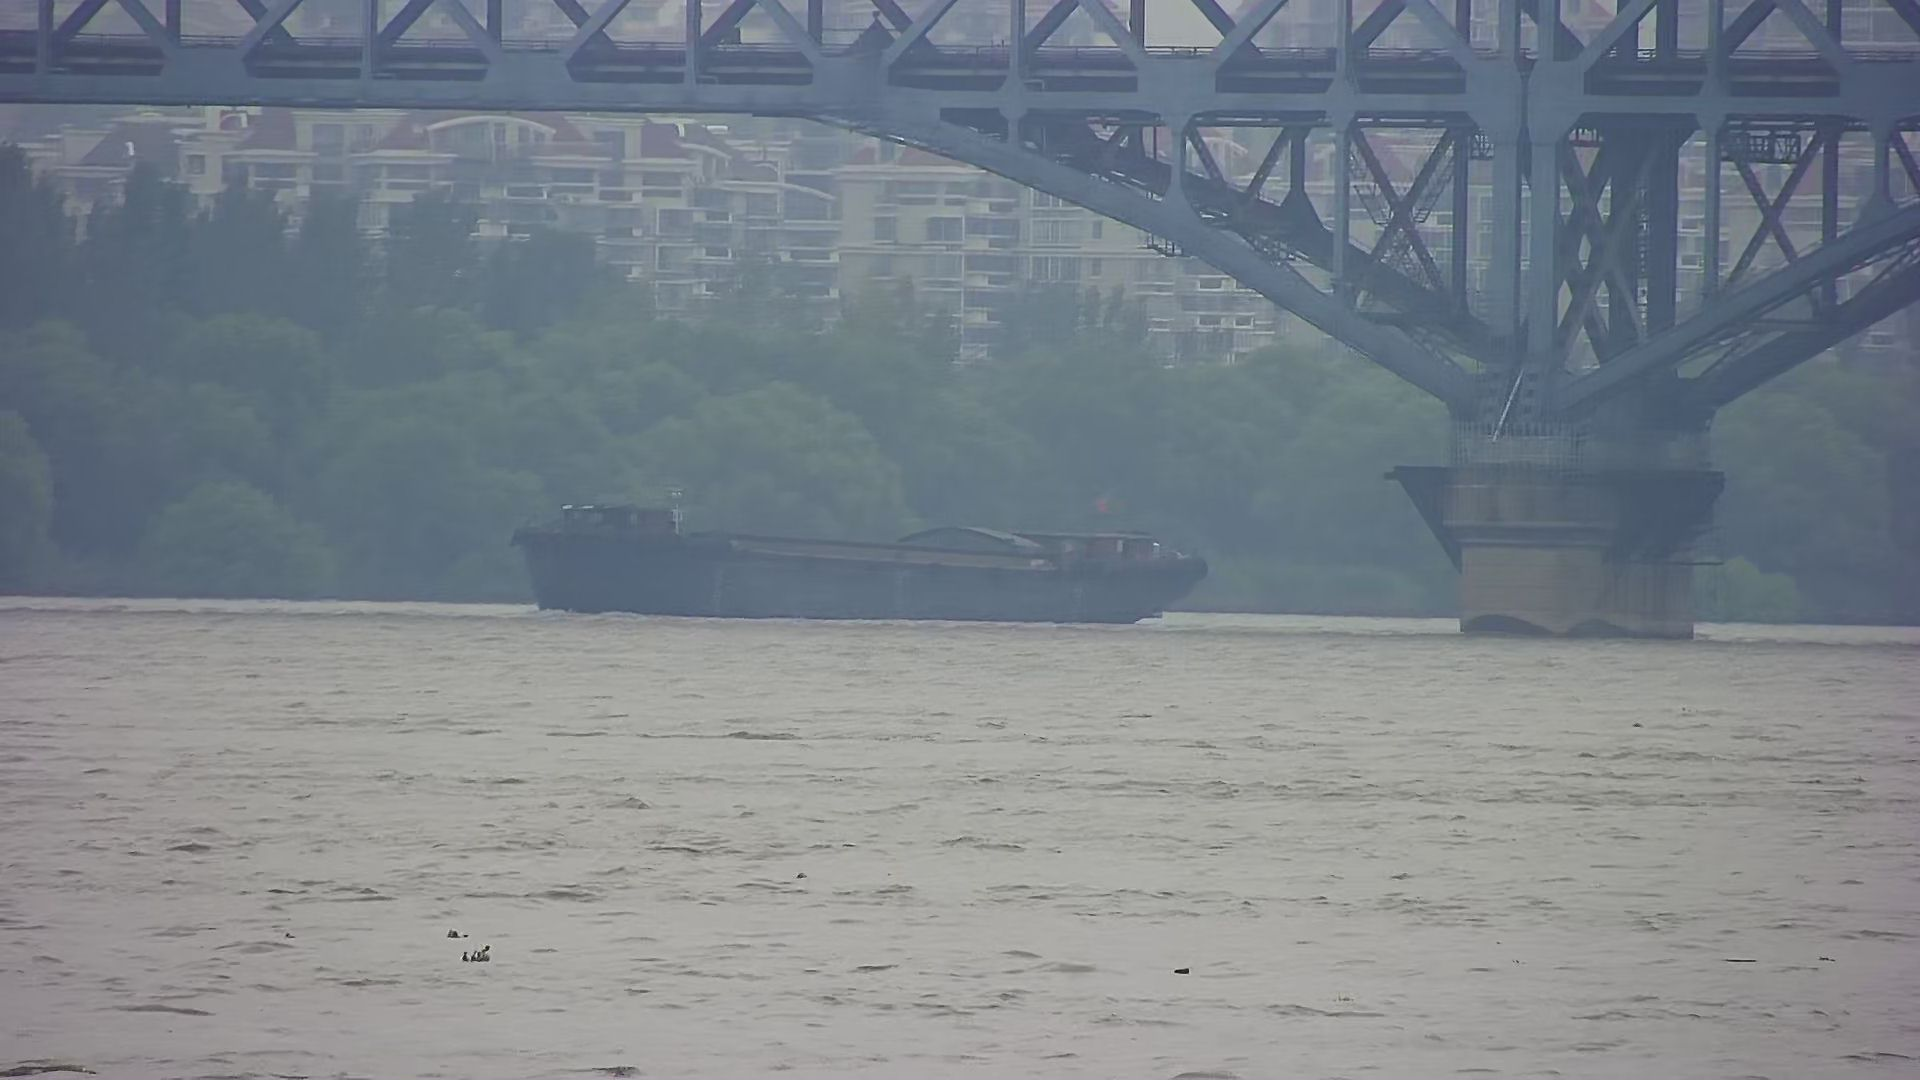bridge: (1, 3, 1909, 651)
ship: (481, 462, 1222, 640)
